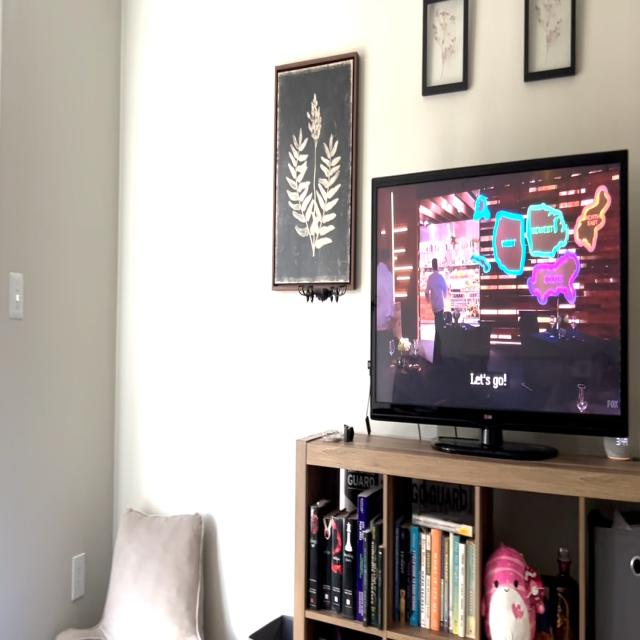drone: (288, 270, 356, 320)
